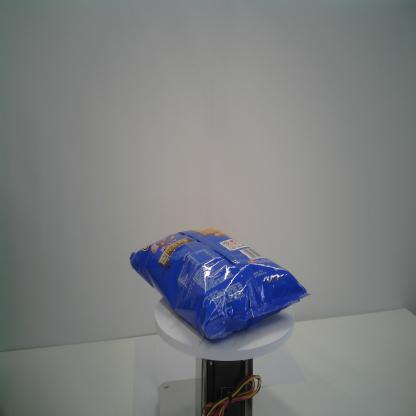Puffed Food: (128, 227, 312, 344)
